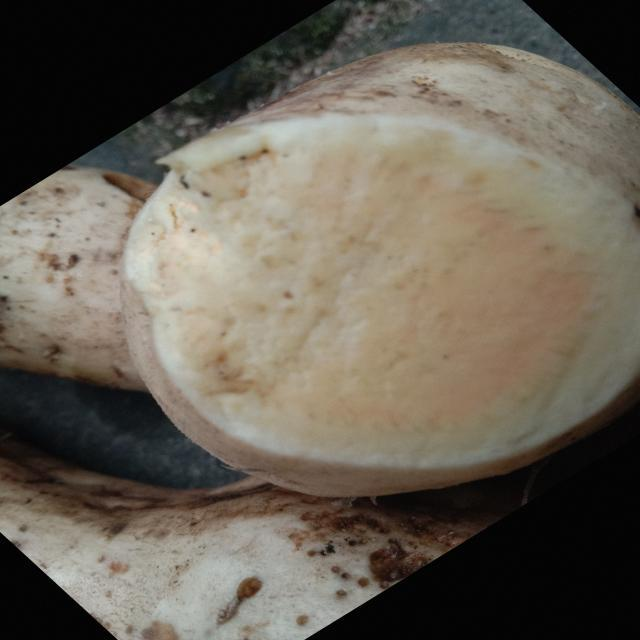Healthy Sweet Potato: (127, 115, 638, 468)
